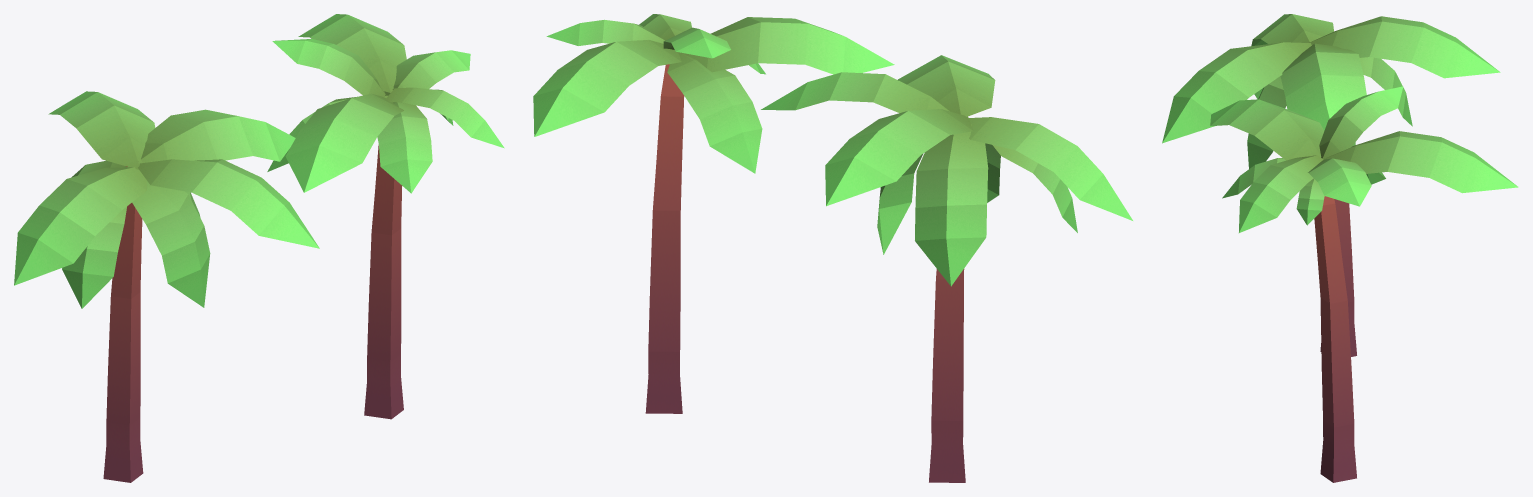
The model's file is Palmtrees.fbx.
The picture shows the model from 3 angles, left to right: view 1: azimuth 30°, elevation 25°; view 2: azimuth 150°, elevation 25°; view 3: azimuth 270°, elevation 25°; orthographic projection. The views are drawn at different scales.
Parts seen in each view (by area): view 1: Palmtree_1, Palmtree_2; view 2: Palmtree_1, Palmtree_2; view 3: Palmtree_2, Palmtree_1.
Boxes of the visible parts, x1,y1,x2,y2 form: Palmtree_1: [14, 91, 319, 482]; Palmtree_2: [267, 14, 504, 419]; Palmtree_1: [761, 55, 1132, 482]; Palmtree_2: [533, 14, 894, 413]; Palmtree_2: [1210, 86, 1518, 482]; Palmtree_1: [1162, 14, 1500, 356].
Bounding box in the file's own units: 385 × 273 × 248.
